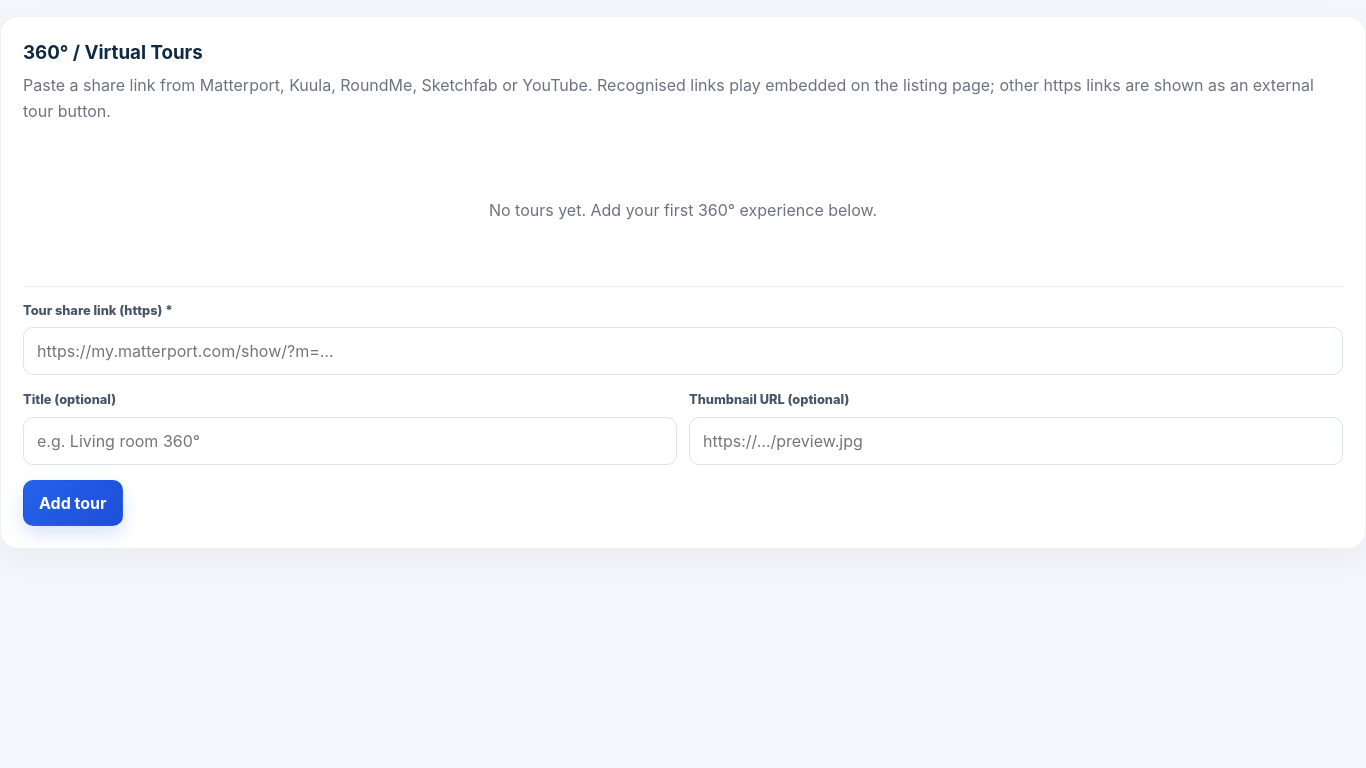
Test: TourEditor › adds a tour and appends it to the list
Expected: the text "No tours yet. Add your first 360° experience below." is shown, [489,200,877,220]
Type "https://kuula.co/share/7Zg6p" into the field labelled "Tour share link (https) *".
click(683, 352); type("https://kuula.co/share/7Zg6p")  # box [23,328,1343,376]
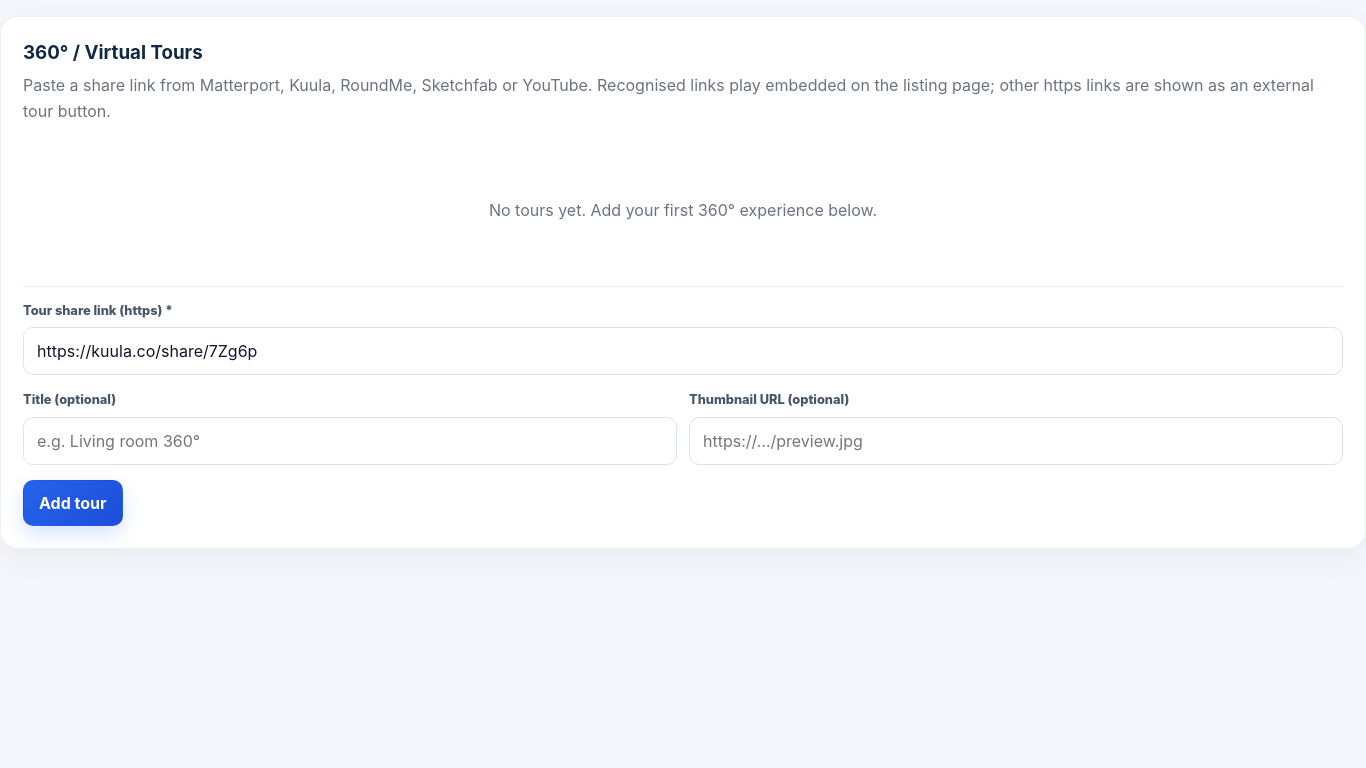
Type "Rooftop" into the field labelled "Title (optional)".
click(350, 441); type("Rooftop")  # box [23,417,677,465]
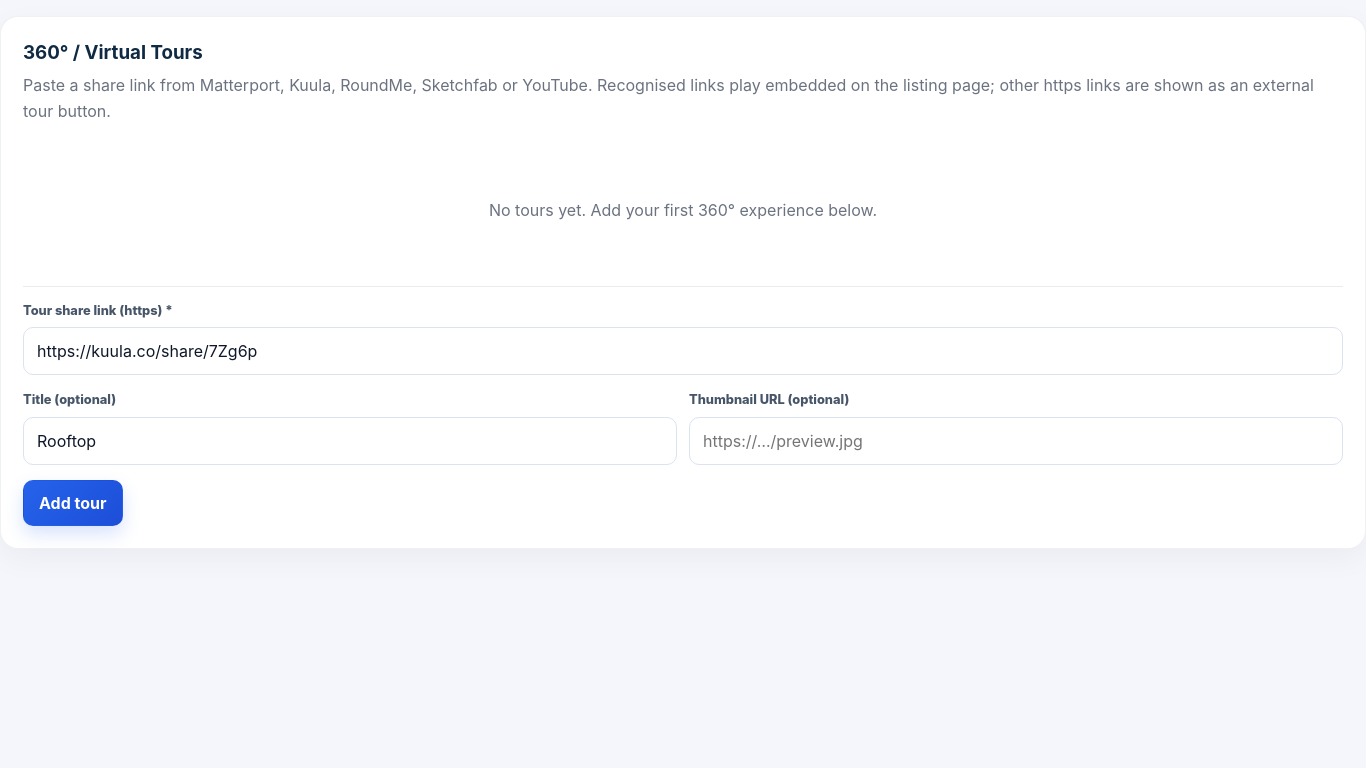
Click the button "Add tour".
click(73, 503)  # box [23,480,122,526]
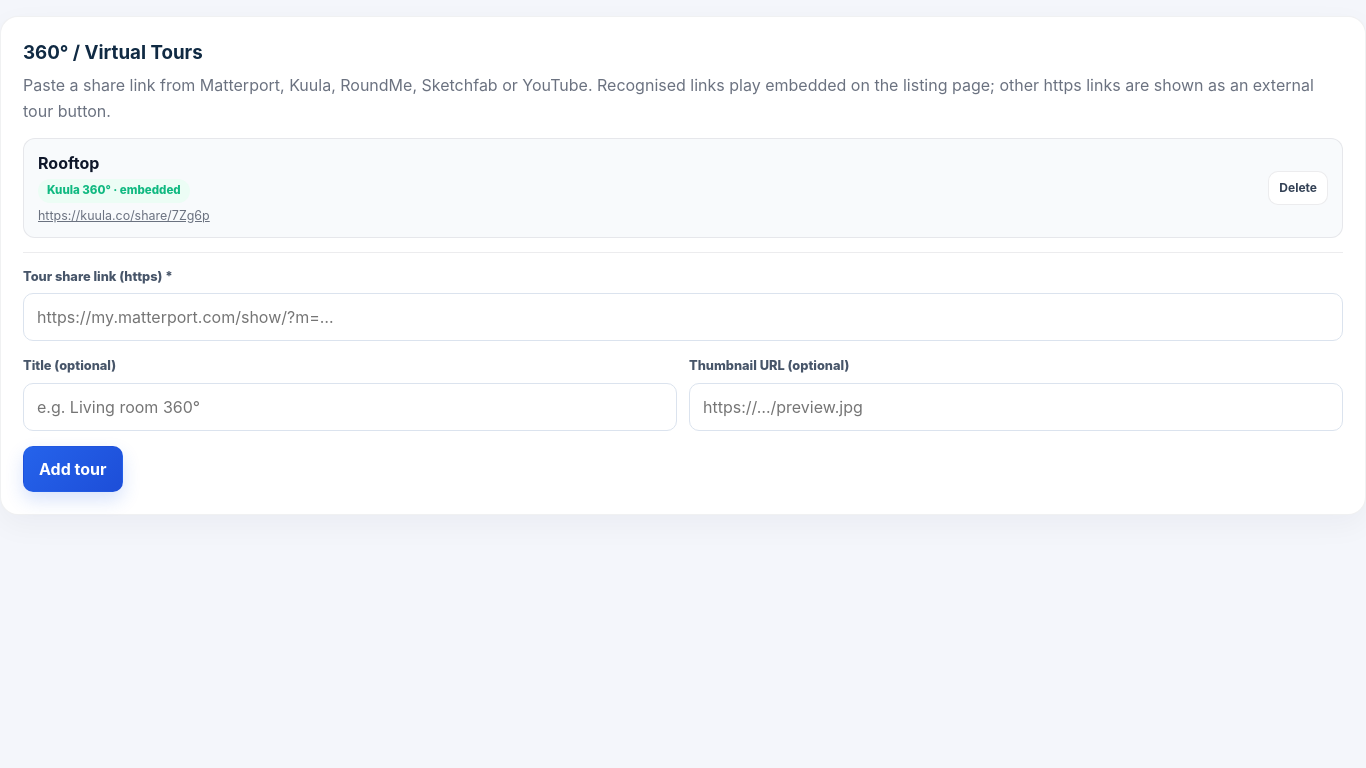
Expected: the text "Rooftop" is shown, [38,153,99,173]
